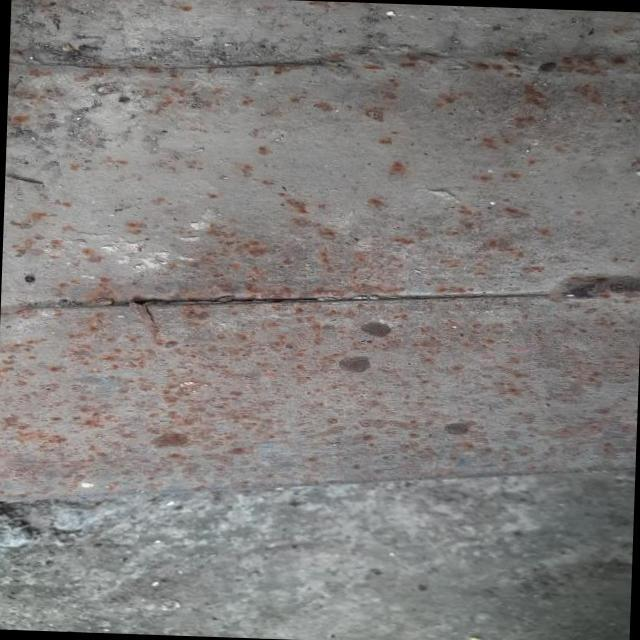defect: (113, 291, 346, 326)
